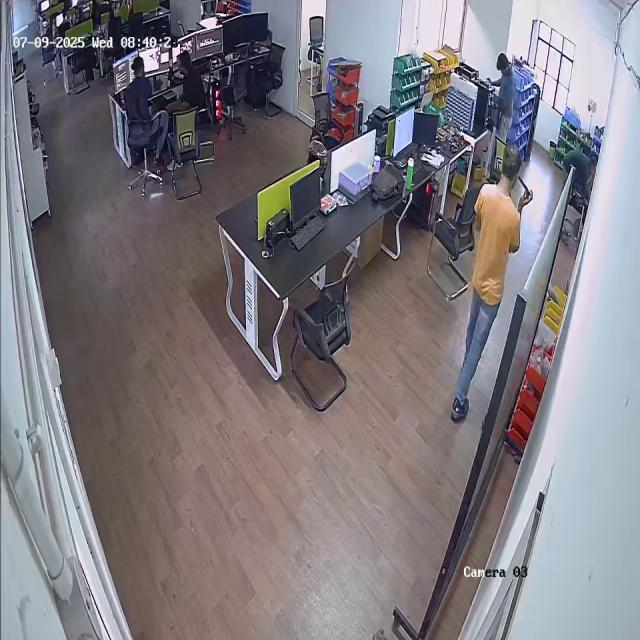person: (452, 143, 522, 424), (118, 56, 158, 137), (490, 52, 516, 140), (172, 51, 204, 115)
